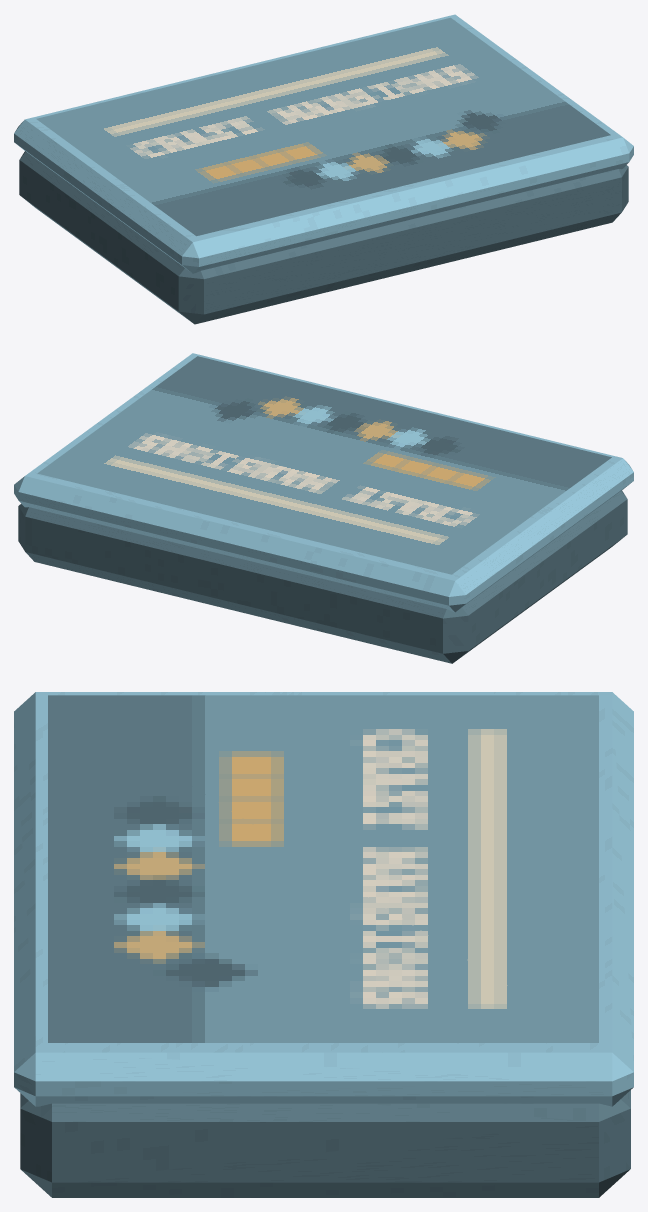
File: mansions_of_madness.glb
3 renders of one model, top to bottom at view 1: azimuth 30°, elevation 25°; view 2: azimuth 150°, elevation 25°; view 3: azimuth 270°, elevation 25°, orthographic. The views are drawn at different scales.
Parts seen in each view (by area): view 1: block_original board game package artwork, block_game case, block_fitted lid; view 2: block_original board game package artwork, block_game case, block_fitted lid; view 3: block_original board game package artwork, block_fitted lid, block_game case.
Part boxes in pixels (x1=…): block_original board game package artwork: x1=36, y1=17, x2=610, y2=236; block_game case: x1=19, y1=151, x2=628, y2=324; block_fitted lid: x1=14, y1=14, x2=633, y2=273; block_original board game package artwork: x1=37, y1=356, x2=611, y2=574; block_game case: x1=18, y1=490, x2=627, y2=663; block_fitted lid: x1=14, y1=353, x2=633, y2=612; block_original board game package artwork: x1=48, y1=695, x2=598, y2=1042; block_fitted lid: x1=14, y1=692, x2=633, y2=1106; block_game case: x1=20, y1=1090, x2=630, y2=1197.
Bounding box in the file's own units: 0.2057 × 0.0387 × 0.1423.
Materials: 1 (1 with a texture image).
